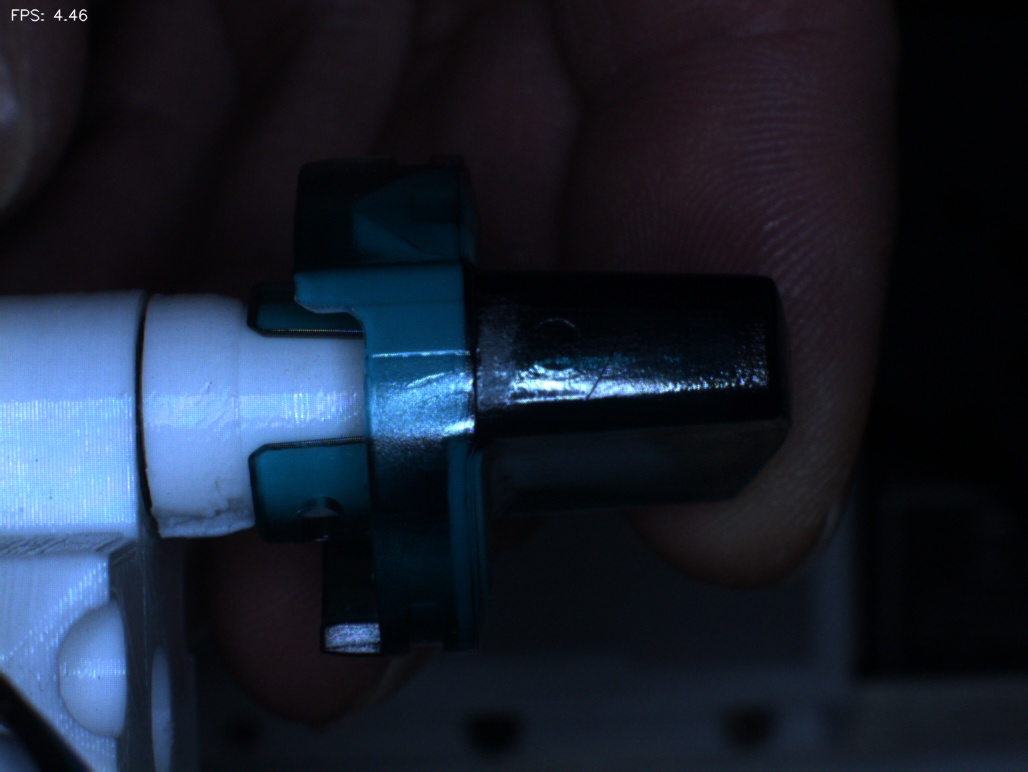DentOk: (327, 179, 394, 256)
